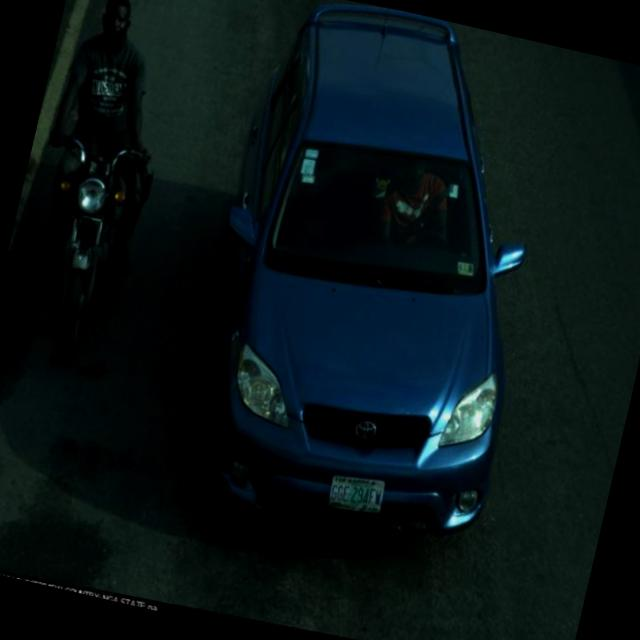person_with_seatbelt: (361, 147, 474, 278)
